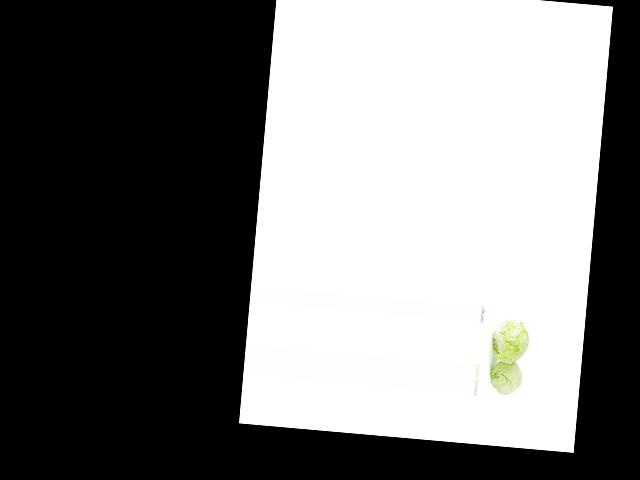lettuce: (481, 349, 524, 397)
